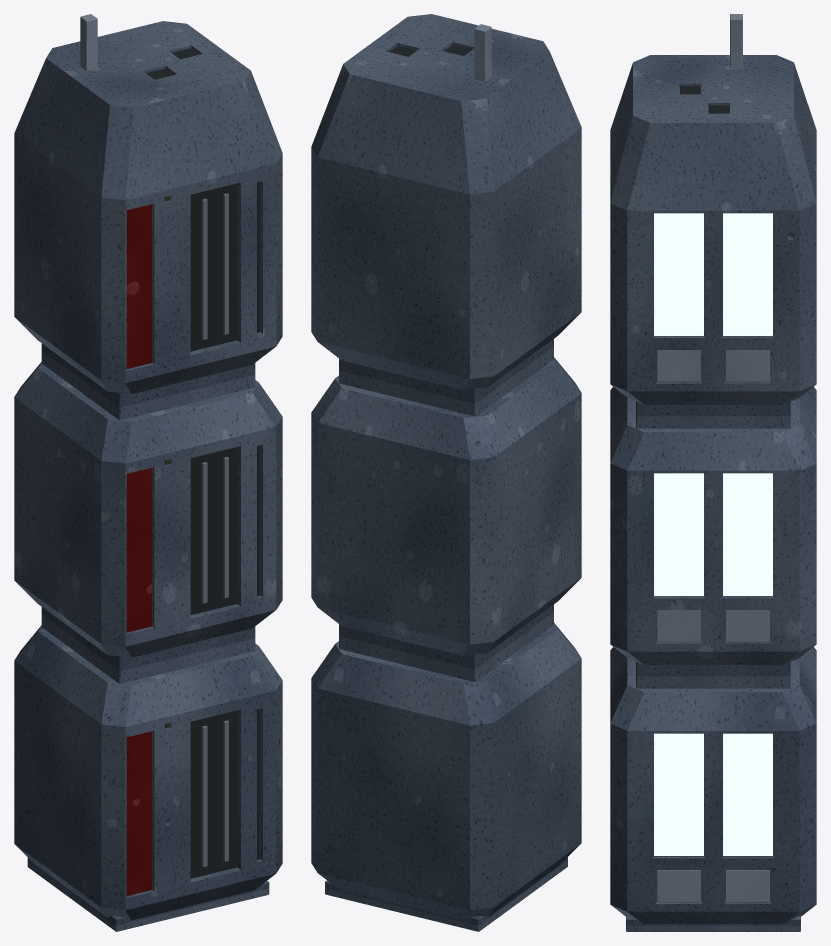
3 renders of one model, left to right at view 1: azimuth 30°, elevation 25°; view 2: azimuth 150°, elevation 25°; view 3: azimuth 270°, elevation 25°, orthographic. The views are drawn at different scales.
Visible parts, largest first — view 1: Fast Breeder Reactor main module 2, Fast Breeder Reactor main module 1, Fast Breeder Reactor main module 0, Fast Breeder Reactor dark blind fields, Fast Breeder Reactor three red vertical strips, Fast Breeder Reactor six dark service ribs, Fast Breeder Reactor connected waist 0, Fast Breeder Reactor connected waist 1, Fast Breeder Reactor narrow cast foot, Fast Breeder Reactor pale service assemblies; view 2: Fast Breeder Reactor main module 2, Fast Breeder Reactor main module 1, Fast Breeder Reactor main module 0, Fast Breeder Reactor connected waist 1, Fast Breeder Reactor connected waist 0, Fast Breeder Reactor narrow cast foot, Fast Breeder Reactor pale service assemblies; view 3: Fast Breeder Reactor main module 2, Fast Breeder Reactor six bright right fields, Fast Breeder Reactor main module 1, Fast Breeder Reactor main module 0, Fast Breeder Reactor pale service assemblies, Fast Breeder Reactor connected waist 1, Fast Breeder Reactor connected waist 0, Fast Breeder Reactor narrow cast foot.
Boxes of the visible parts, <box> form: Fast Breeder Reactor main module 2: <box>14,21,282,394</box>; Fast Breeder Reactor main module 1: <box>14,362,282,657</box>; Fast Breeder Reactor main module 0: <box>14,625,282,920</box>; Fast Breeder Reactor dark blind fields: <box>146,48,260,878</box>; Fast Breeder Reactor three red vertical strips: <box>126,204,152,895</box>; Fast Breeder Reactor six dark service ribs: <box>201,193,228,866</box>; Fast Breeder Reactor connected waist 0: <box>41,607,255,683</box>; Fast Breeder Reactor connected waist 1: <box>41,343,255,420</box>; Fast Breeder Reactor narrow cast foot: <box>27,857,269,931</box>; Fast Breeder Reactor pale service assemblies: <box>80,14,97,70</box>; Fast Breeder Reactor main module 2: <box>311,14,581,389</box>; Fast Breeder Reactor main module 1: <box>311,357,581,655</box>; Fast Breeder Reactor main module 0: <box>311,623,581,920</box>; Fast Breeder Reactor connected waist 1: <box>339,339,553,416</box>; Fast Breeder Reactor connected waist 0: <box>339,604,553,681</box>; Fast Breeder Reactor narrow cast foot: <box>325,857,567,931</box>; Fast Breeder Reactor pale service assemblies: <box>474,24,491,81</box>; Fast Breeder Reactor main module 2: <box>610,55,816,404</box>; Fast Breeder Reactor six bright right fields: <box>654,213,772,855</box>; Fast Breeder Reactor main module 1: <box>610,386,816,664</box>; Fast Breeder Reactor main module 0: <box>610,647,816,923</box>; Fast Breeder Reactor pale service assemblies: <box>657,14,769,901</box>; Fast Breeder Reactor connected waist 1: <box>636,401,790,428</box>; Fast Breeder Reactor connected waist 0: <box>636,661,790,688</box>; Fast Breeder Reactor narrow cast foot: <box>626,915,800,931</box>.
Bounding box in the file's own units: 0.72 × 3.29 × 0.72.
Materials: 7 (3 with a texture image).
